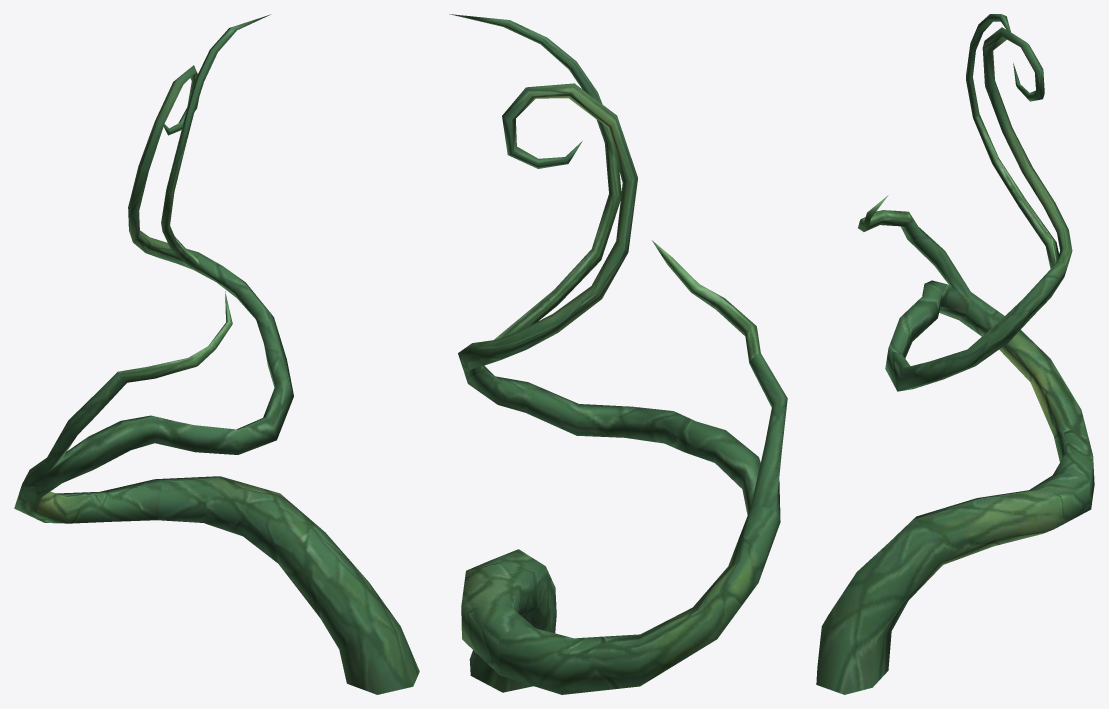
Rendered from Vines_C.fbx.
The picture shows the model from 3 angles, left to right: view 1: azimuth 30°, elevation 25°; view 2: azimuth 150°, elevation 25°; view 3: azimuth 270°, elevation 25°; orthographic projection. The views are drawn at different scales.
Visible parts, largest first — view 1: Vines_C; view 2: Vines_C; view 3: Vines_C.
Boxes of the visible parts, bbox=[...] form: Vines_C: bbox=[14, 14, 419, 694]; Vines_C: bbox=[449, 14, 787, 694]; Vines_C: bbox=[816, 14, 1094, 694].
Bounding box in the file's own units: 3.93 × 7.23 × 2.91.
